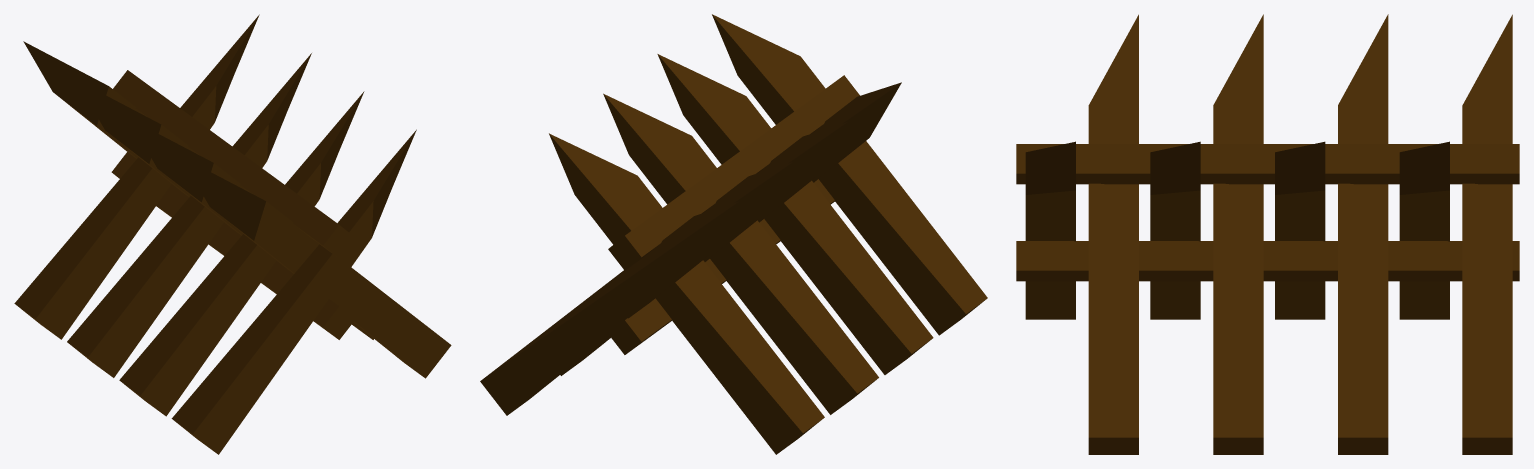
Rendered from Wooden_Palisade.fbx.
3 views of the same model, side by side, from view 1: azimuth 30°, elevation 25°; view 2: azimuth 150°, elevation 25°; view 3: azimuth 270°, elevation 25° (orthographic). The views are drawn at different scales.
Parts seen in each view (by area): view 1: Wooden_Palisade; view 2: Wooden_Palisade; view 3: Wooden_Palisade.
Part boxes in pixels (<box>): Wooden_Palisade: <box>14,14,451,454</box>; Wooden_Palisade: <box>480,14,987,454</box>; Wooden_Palisade: <box>1016,14,1519,454</box>.
Bounding box in the file's own units: 62.23 × 54.54 × 80.
